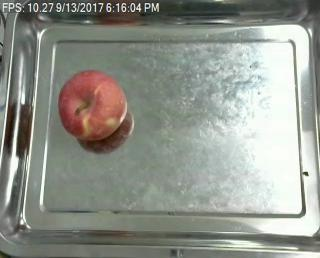apple: (58, 70, 129, 142)
